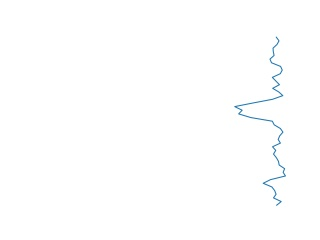interdistributaryEstuary: (232, 37, 294, 205)
